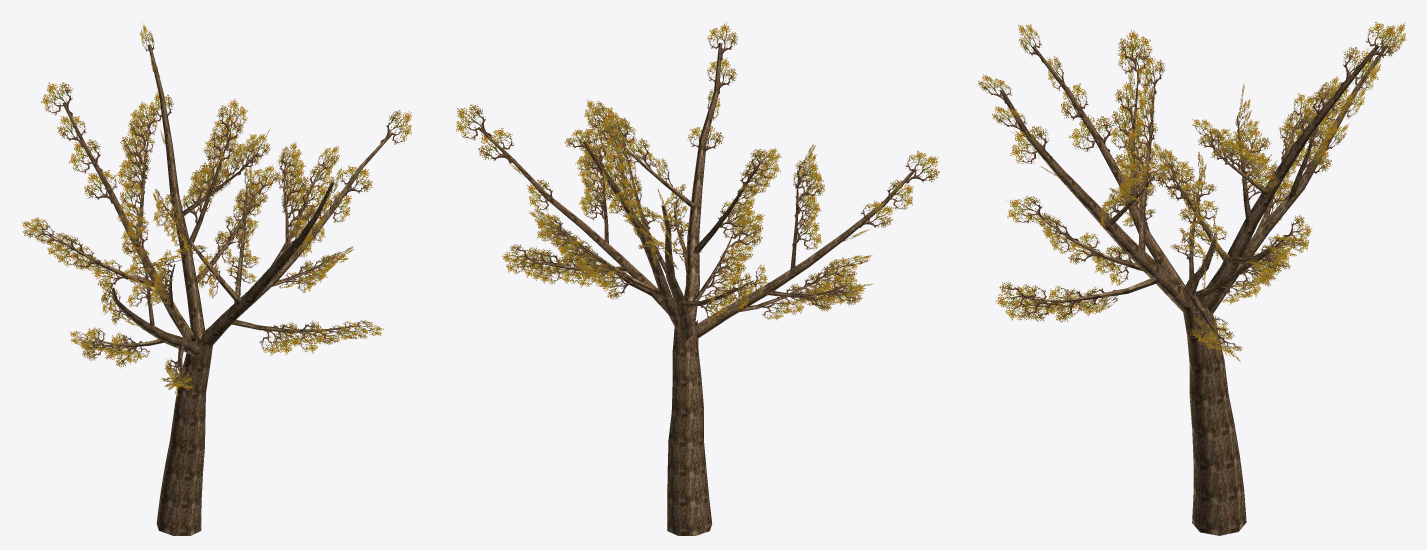
The model's file is dh_hotree_lod0.glb.
3 views of the same model, side by side, from view 1: azimuth 30°, elevation 25°; view 2: azimuth 150°, elevation 25°; view 3: azimuth 270°, elevation 25° (orthographic). The views are drawn at different scales.
Parts seen in each view (by area): view 1: dh_hotree_lod0; view 2: dh_hotree_lod0; view 3: dh_hotree_lod0.
Boxes of the visible parts, <box> form: dh_hotree_lod0: <box>21,23,411,535</box>; dh_hotree_lod0: <box>456,23,939,535</box>; dh_hotree_lod0: <box>977,22,1406,535</box>.
Bounding box in the file's own units: 38.55 × 40.72 × 30.6.
2 materials, 2 textured.
